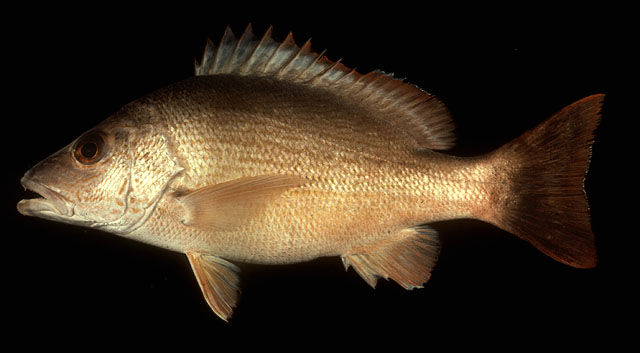fish: (16, 23, 607, 323)
